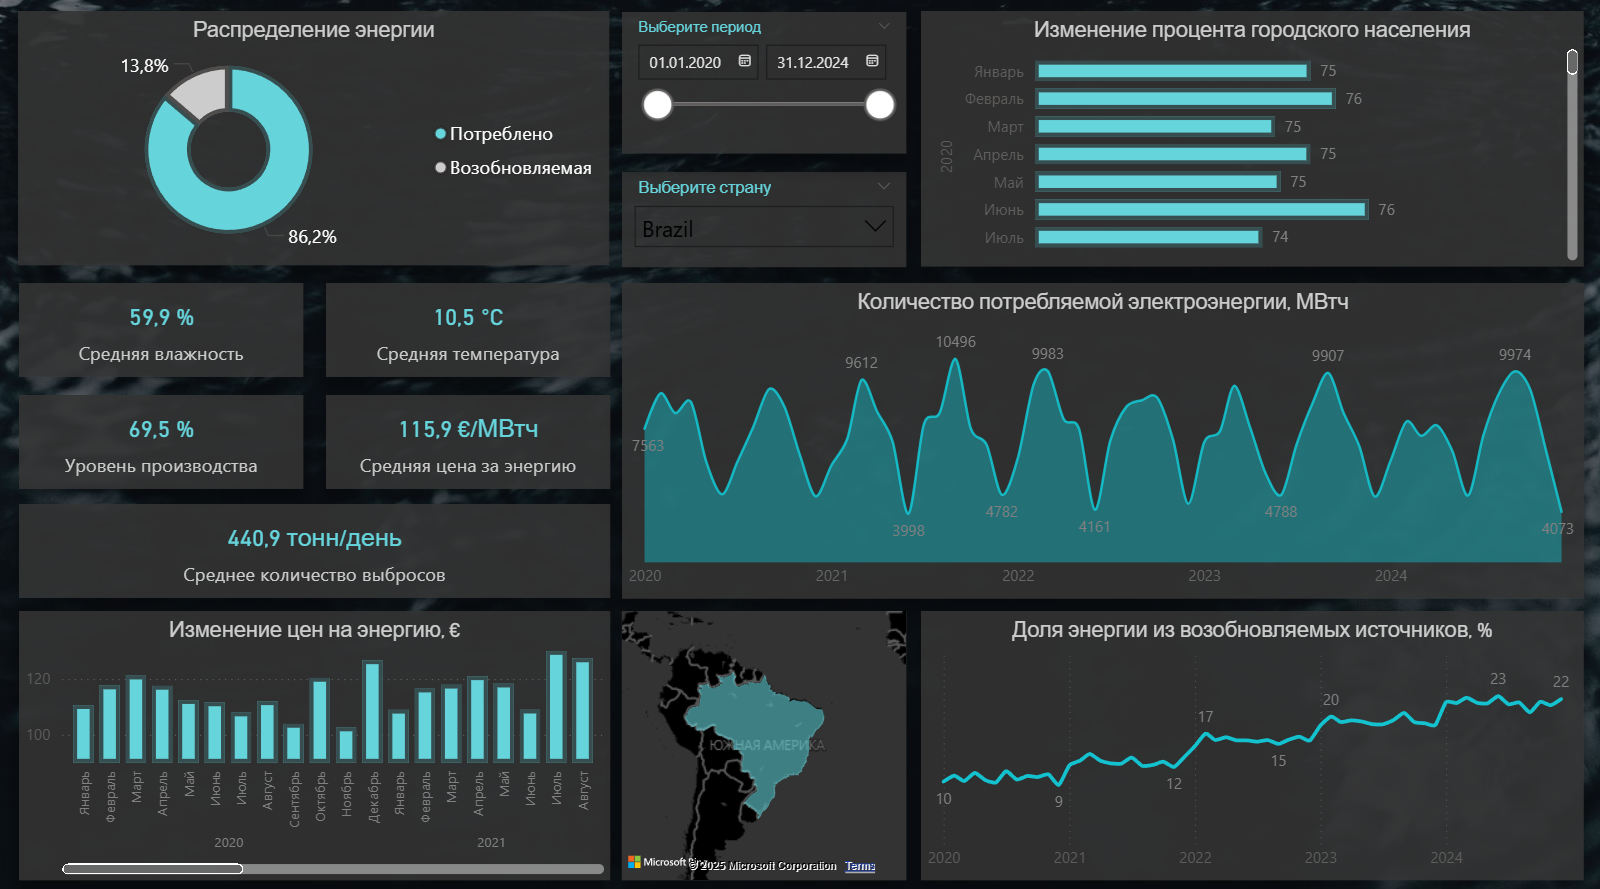

The dashboard page shown, as its layout file describes it:
{"tool":"powerbi","page":{"name":"По отдельной стране","canvas":[1280,720],"ordinal":0},"visuals":[{"type":"donutChart","title":"Распределение энергии","fields":{"Y":["Меры.Среднее потребление энергии","Меры.Среднее кол-во возобн.энергии"]},"box":[15.6,15.6,472.2,203.3],"z":0},{"type":"card","title":"Распределение энергии","fields":{"Values":["Меры.Средняя влажность"]},"box":[16,232,227,75],"z":1000},{"type":"card","title":"Распределение энергии","fields":{"Values":["Меры.Средняя температура1"]},"box":[261,232,227,75],"z":2000},{"type":"slicer","title":"Распределение энергии","fields":{"Values":["2. Исходные данные.Страна"]},"box":[497.4,143.6,226.9,75.9],"z":3000},{"type":"card","title":"Распределение энергии","fields":{"Values":["Меры.Уровень производсьва"]},"box":[16,322,227,75],"z":4000},{"type":"card","title":"Распределение энергии","fields":{"Values":["Меры.Средняя цена за энергию"]},"box":[261,322,227,75],"z":5000},{"type":"card","title":"Распределение энергии","fields":{"Values":["Меры.Среднее количество выбросов"]},"box":[16,409,472,75],"z":6000},{"type":"slicer","title":"Выберите период","fields":{"Values":["1. Календарь.Дата"]},"box":[497,16,227,113],"z":7000},{"type":"clusteredColumnChart","title":"Изменение цен на энергию, €","fields":{"Category":["2. Исходные данные.Дата.Изменение.Иерархия дат.Год","2. Исходные данные.Дата.Изменение.Иерархия дат.Месяц"],"Y":["Avg(2. Исходные данные.Цена энергии)"]},"box":[16,494,472,215],"z":8000},{"type":"barChart","title":"Изменение процента городского населения","fields":{"Category":["2. Исходные данные.Дата.Изменение.Иерархия дат.Год","2. Исходные данные.Дата.Изменение.Иерархия дат.Месяц"],"Y":["Avg(2. Исходные данные.Городское население)"]},"box":[736,15,529,204],"z":9000},{"type":"areaChart","title":"Количество потребляемой электроэнергии, МВтч","fields":{"Category":["2. Исходные данные.Дата.Изменение.Иерархия дат.Год","2. Исходные данные.Дата.Изменение.Иерархия дат.Месяц"],"Y":["Avg(2. Исходные данные.Потребление энергии)"]},"box":[497,232,768,252],"z":10000},{"type":"filledMap","title":"Количество потребляемой электроэнергии, МВтч","fields":{"Category":["2. Исходные данные.Страна"]},"box":[497,494,227,215],"z":11000},{"type":"lineChart","title":"Доля энергии из возобновляемых источников, %","fields":{"Category":["2. Исходные данные.Дата.Изменение.Иерархия дат.Год","2. Исходные данные.Дата.Изменение.Иерархия дат.Месяц"],"Y":["Avg(2. Исходные данные.Возобновляемая доля)"]},"box":[736,494,529,215],"z":12000}]}

Visuals, with their boxes in screenshot pixels (x1, y1, x2, y2), scaled from the page's 1280x720 canvas onto the 1600x889 screenshot:
"Распределение энергии" donutChart: box(20, 19, 610, 270)
"Распределение энергии" card: box(20, 286, 304, 379)
"Распределение энергии" card: box(326, 286, 610, 379)
"Распределение энергии" slicer: box(622, 177, 905, 271)
"Распределение энергии" card: box(20, 398, 304, 490)
"Распределение энергии" card: box(326, 398, 610, 490)
"Распределение энергии" card: box(20, 505, 610, 598)
"Выберите период" slicer: box(621, 20, 905, 159)
"Изменение цен на энергию, €" clusteredColumnChart: box(20, 610, 610, 875)
"Изменение процента городского населения" barChart: box(920, 19, 1581, 270)
"Количество потребляемой электроэнергии, МВтч" areaChart: box(621, 286, 1581, 598)
"Количество потребляемой электроэнергии, МВтч" filledMap: box(621, 610, 905, 875)
"Доля энергии из возобновляемых источников, %" lineChart: box(920, 610, 1581, 875)
